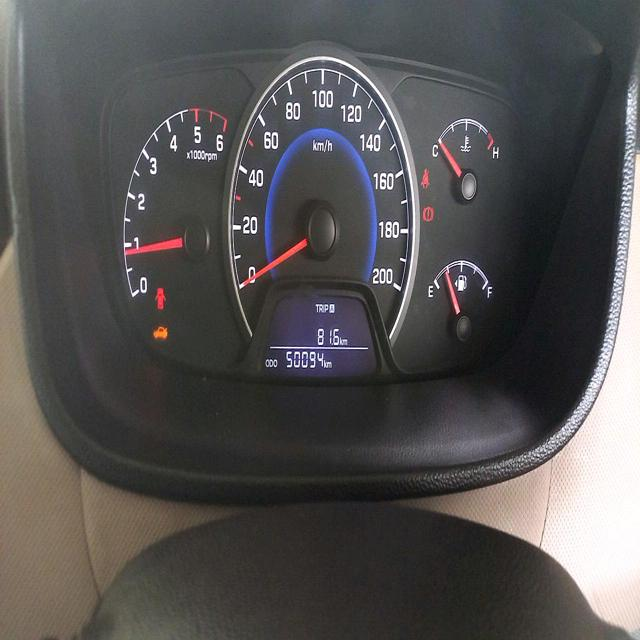odometer: (281, 348, 325, 375)
